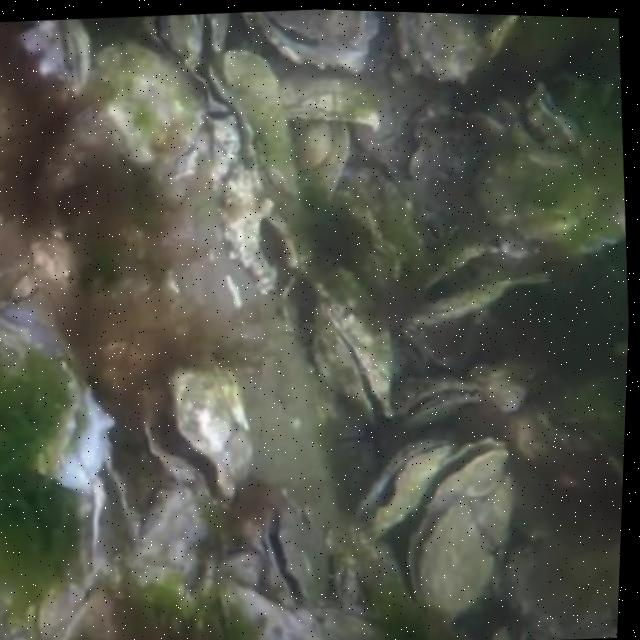Oyster-Closed: (413, 484, 516, 626), (306, 295, 391, 425), (363, 435, 451, 537), (261, 502, 335, 606), (393, 372, 487, 427)
Oyster-Indeterminate: (89, 43, 203, 158), (397, 12, 525, 84), (284, 68, 381, 125), (220, 575, 304, 640), (288, 120, 347, 212)
Oyster-Open: (136, 357, 261, 502), (395, 248, 543, 335), (248, 9, 370, 74), (54, 376, 112, 509), (490, 87, 576, 175), (416, 433, 504, 518)
